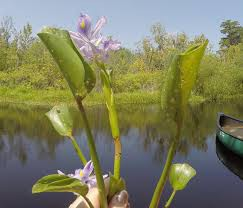water_hyacinth: (29, 20, 213, 197)
